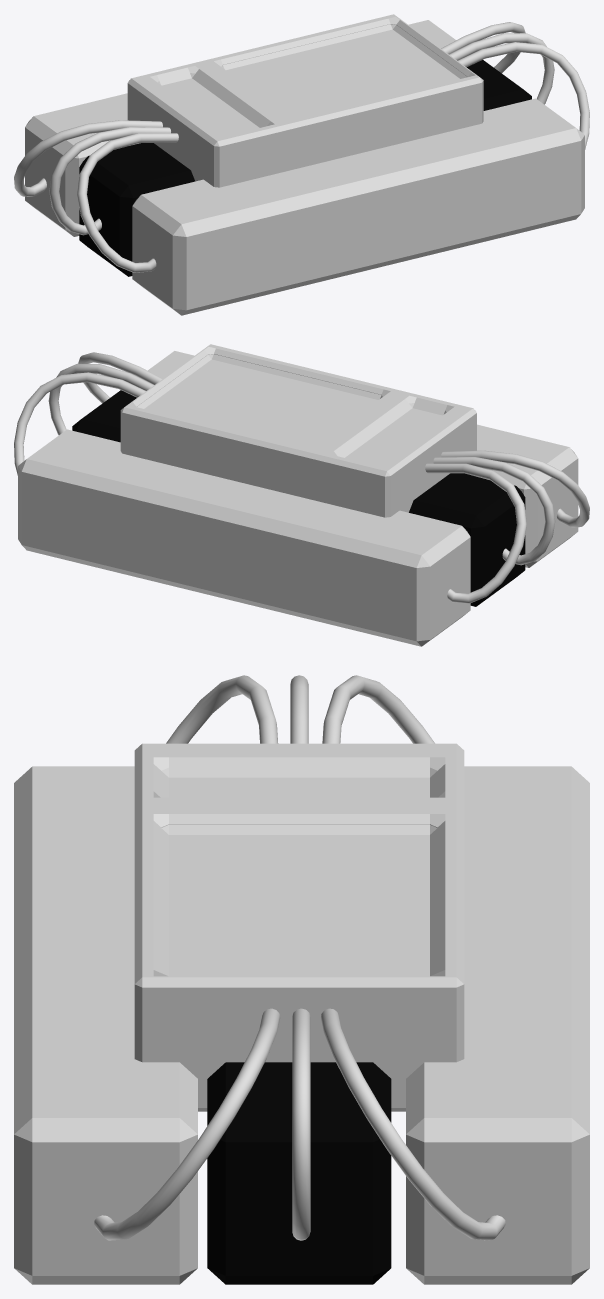
File: bomb.fbx
The picture shows the model from 3 angles, top to bottom: view 1: azimuth 30°, elevation 25°; view 2: azimuth 150°, elevation 25°; view 3: azimuth 270°, elevation 25°; orthographic projection. The views are drawn at different scales.
Parts seen in each view (by area): view 1: Cube.001, Cube.003, Cube, Cube.002, BezierCurve.001, BezierCurve, BezierCurve.002, BezierCurve.005, BezierCurve.003, BezierCurve.004; view 2: Cube.002, Cube.003, Cube, Cube.001, BezierCurve.002, BezierCurve, BezierCurve.001, BezierCurve.004, BezierCurve.003, BezierCurve.005; view 3: Cube.003, Cube.002, Cube.001, Cube, BezierCurve.005, BezierCurve.004, BezierCurve.003, BezierCurve.002, BezierCurve.001, BezierCurve.
Part boxes in pixels (x1,y1,x2,y2): Cube.001: [132, 98, 584, 315]; Cube.003: [127, 14, 483, 187]; Cube: [79, 60, 531, 276]; Cube.002: [25, 20, 455, 236]; BezierCurve.001: [77, 133, 178, 272]; BezierCurve: [49, 127, 170, 235]; BezierCurve.002: [14, 120, 162, 196]; BezierCurve.005: [458, 42, 589, 149]; BezierCurve.003: [449, 33, 554, 104]; BezierCurve.004: [441, 22, 525, 73]; Cube.002: [18, 429, 470, 646]; Cube.003: [120, 344, 476, 517]; Cube: [72, 390, 525, 606]; Cube.001: [147, 351, 578, 567]; BezierCurve.002: [425, 463, 526, 603]; BezierCurve: [433, 457, 555, 565]; BezierCurve.001: [441, 450, 589, 527]; BezierCurve.004: [14, 372, 145, 475]; BezierCurve.003: [48, 363, 154, 435]; BezierCurve.005: [78, 352, 162, 403]; Cube.003: [134, 743, 464, 1111]; Cube.002: [406, 766, 589, 1284]; Cube.001: [14, 766, 197, 1284]; Cube: [207, 1062, 391, 1284]; BezierCurve.005: [94, 1008, 280, 1240]; BezierCurve.004: [321, 1008, 505, 1240]; BezierCurve.003: [292, 1008, 310, 1240]; BezierCurve.002: [322, 675, 434, 743]; BezierCurve.001: [166, 675, 278, 743]; BezierCurve: [290, 675, 308, 743].
Bounding box in the file's own units: 116 × 29.92 × 62.85.
